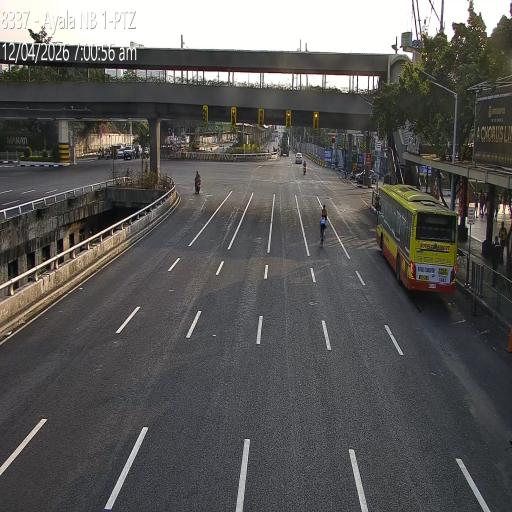Car: (124, 144, 135, 162), (117, 146, 125, 160), (296, 151, 303, 165)
Motor: (193, 169, 203, 195), (350, 166, 357, 182), (302, 160, 308, 176), (97, 147, 102, 161), (107, 147, 112, 161), (101, 147, 105, 160)
